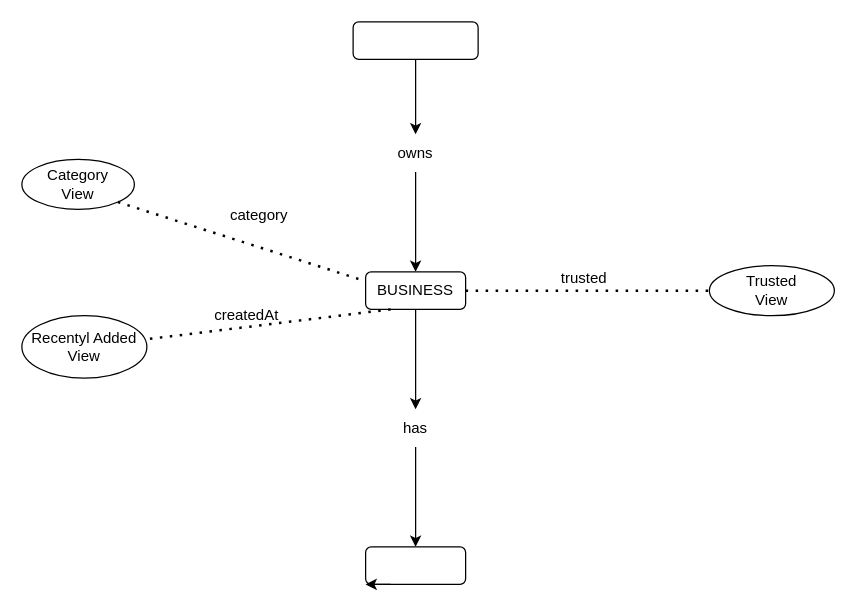
Some shapes in this 856 by 616 pixel diagram are drawn without their labels. The shapes that lost their labels are listed below. From the top down, each one's centre as x and y in pixels, then its label:
At pixel 415 40: "USER/OWNER".
At pixel 415 565: "OFFERS".
